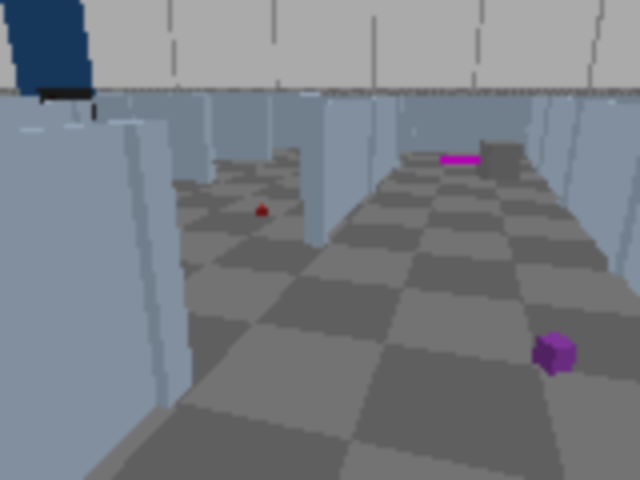obstacle: (477, 141, 523, 181)
puck: (532, 332, 578, 376)
